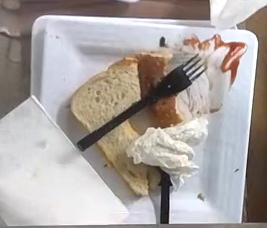bread: (70, 56, 138, 130), (98, 120, 149, 195)
pizza_crust: (129, 95, 184, 135), (137, 54, 167, 98)
